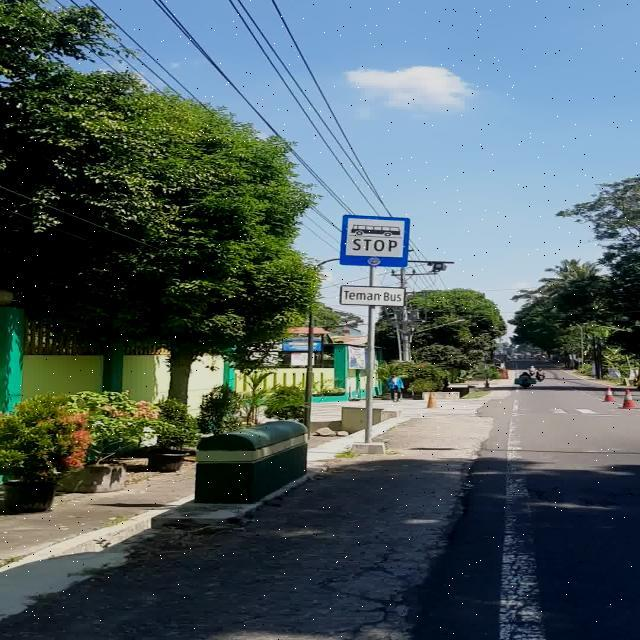Pemberhentian Bus: (340, 214, 410, 268)
